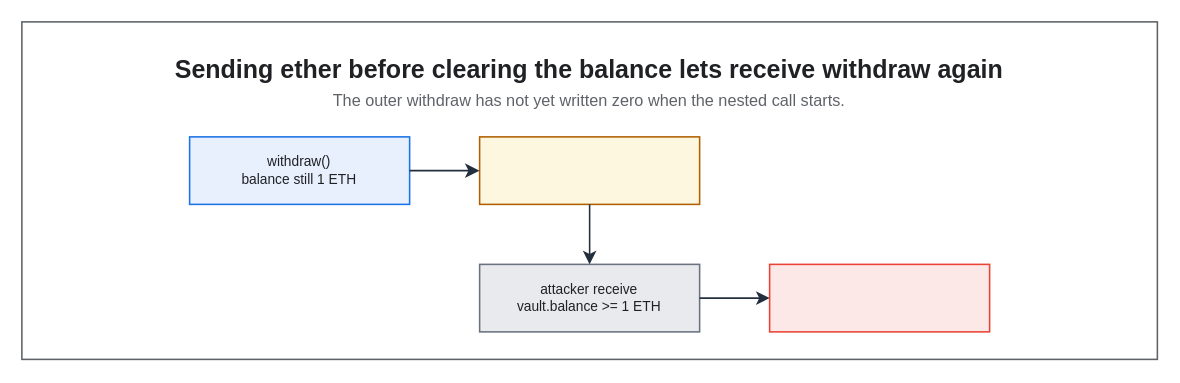
The diagram is 1180 pixels wide and 383 high, and some of its shapes have lost their labels. Here are the shapes that lost their labels. From the top down, the box of each, then its label:
(478, 136, 700, 205): msg.sender.call sends 1 ETH first
(768, 263, 990, 332): withdraw again mapping not yet zero
